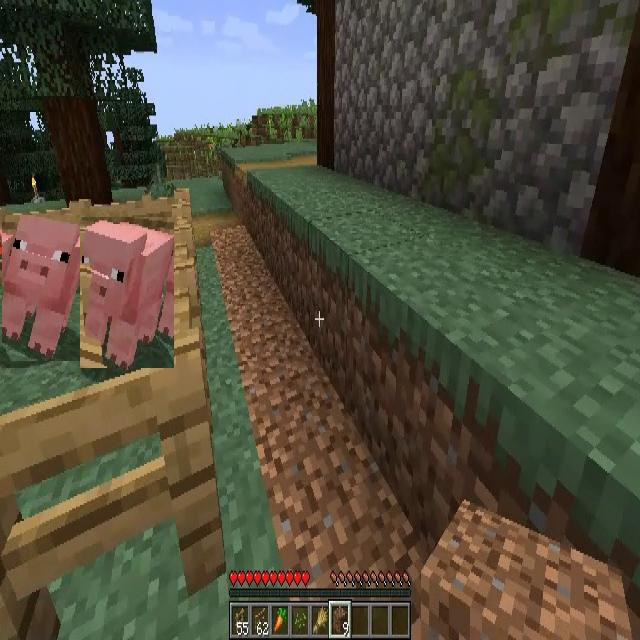pig: (80, 217, 174, 368), (2, 215, 90, 361)
